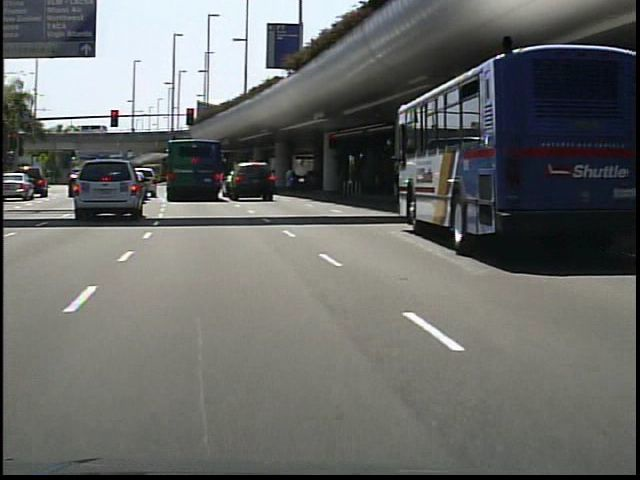person: (281, 161, 301, 198)
